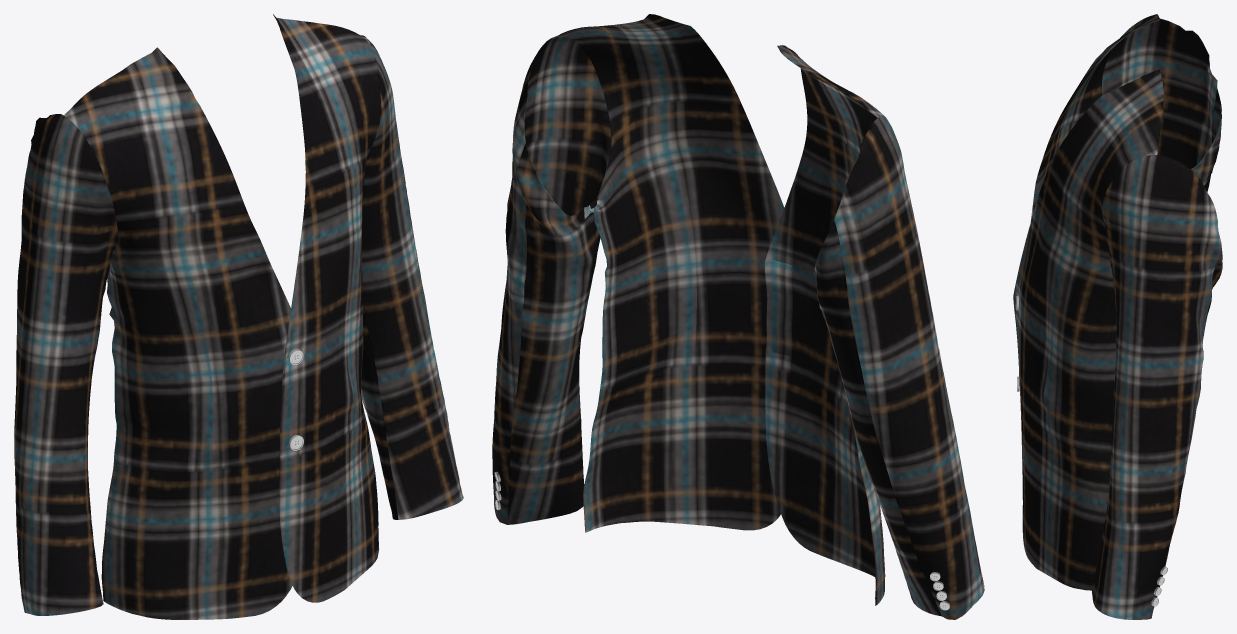
3 views of the same model, side by side, from view 1: azimuth 30°, elevation 25°; view 2: azimuth 150°, elevation 25°; view 3: azimuth 270°, elevation 25° (orthographic). The views are drawn at different scales.
Parts seen in each view (by area): view 1: jacket (×5); view 2: jacket (×6); view 3: jacket (×5).
Part boxes in pixels (left/top/right/bottom): jacket (×5): left=14, top=14, right=463, bottom=619; jacket (×6): left=492, top=14, right=984, bottom=619; jacket (×5): left=1013, top=14, right=1221, bottom=619.
Size of the model in its own units: 626 by 724 by 275.
Materials: 16 (16 with a texture image).
